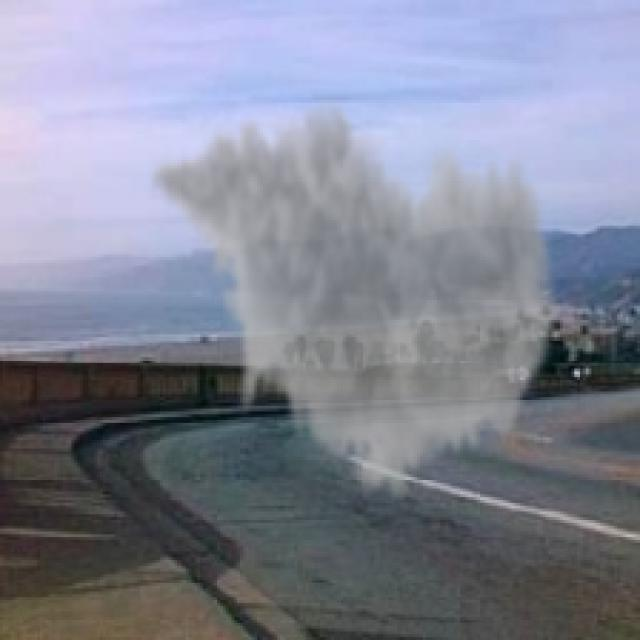Smoke: (146, 89, 563, 508)
